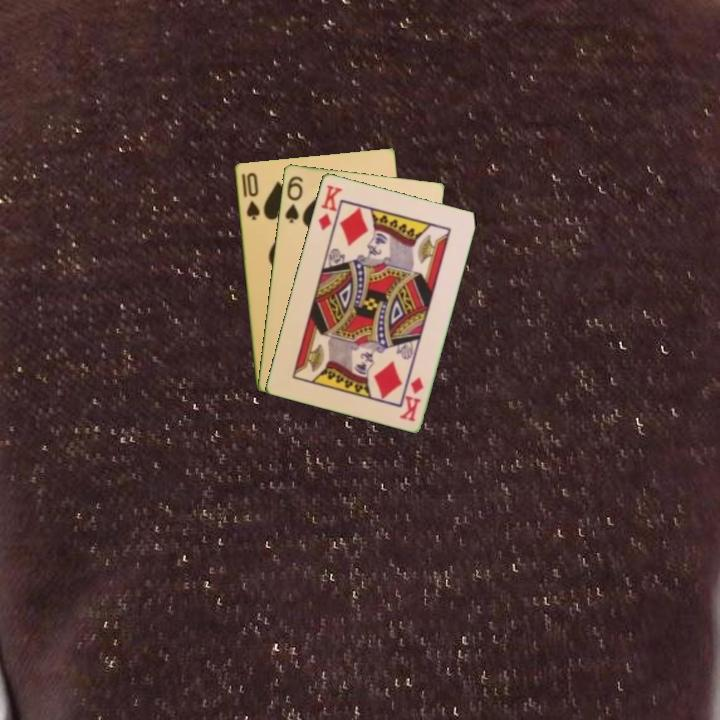10s: (242, 169, 262, 223)
6s: (281, 172, 306, 226)
Kd: (314, 181, 345, 233), (397, 373, 426, 424)
